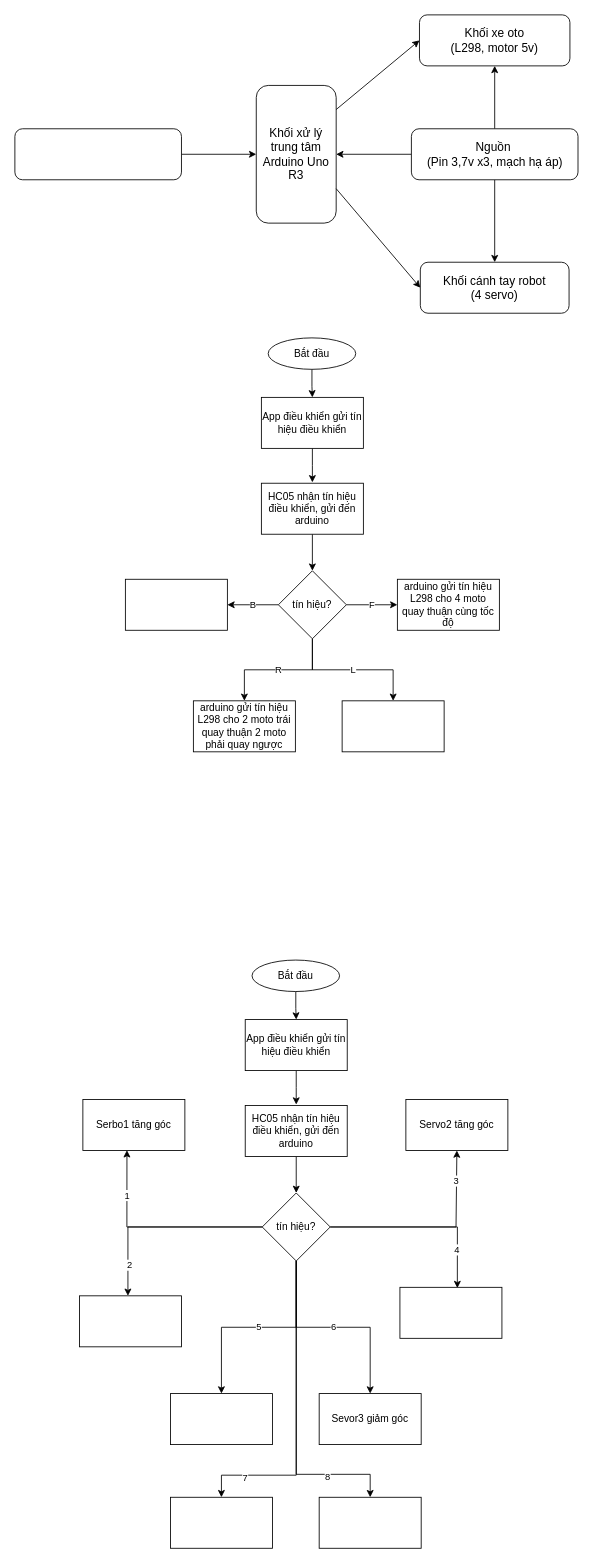
This 593x1563 diagram has some shape labels left out. The box of each missing label's shape, as (x1, y1, x2, y2) in pixels:
arduino gửi tín hiệu L298 cho 2 moto trái quay ngược 2 moto phải quay thuận: (341, 700, 444, 752)
arduino gửi tín hiệu L298 cho 4 moto quay ngược cùng tốc độ: (125, 578, 227, 630)
các sevor về trạng thái mặc định: (170, 1496, 272, 1548)
Sevor1 giảm góc: (79, 1295, 181, 1347)
Sevor2 giảm góc: (399, 1286, 502, 1338)
Sevor3 tăng góc: (170, 1393, 272, 1445)
Sevor4 kẹp/ mở kẹp: (318, 1496, 421, 1548)
Ứng dụng điều khiển hệ thống (app android, HC05): (14, 128, 181, 180)
